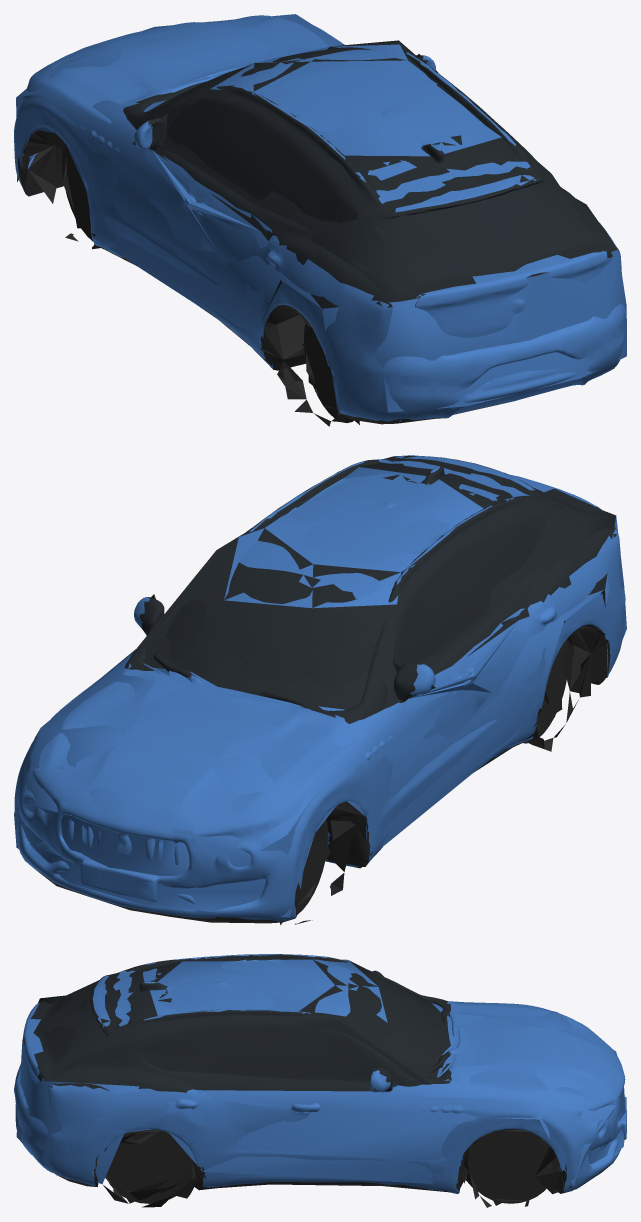
Rendered from maserati-levante.glb.
The picture shows the model from 3 angles, top to bottom: view 1: azimuth 30°, elevation 25°; view 2: azimuth 150°, elevation 25°; view 3: azimuth 270°, elevation 25°; orthographic projection. The views are drawn at different scales.
Visible parts, largest first — view 1: body, far; view 2: body, far; view 3: body, far.
Boxes of the visible parts, box(x1,y1,x2,y2) form: body: box(14, 15, 625, 426); far: box(16, 14, 626, 424); body: box(14, 455, 625, 924); far: box(14, 463, 626, 925); body: box(14, 954, 626, 1207); far: box(16, 959, 625, 1206).
Bounding box in the file's own units: 2.16 × 1.69 × 5.03.
